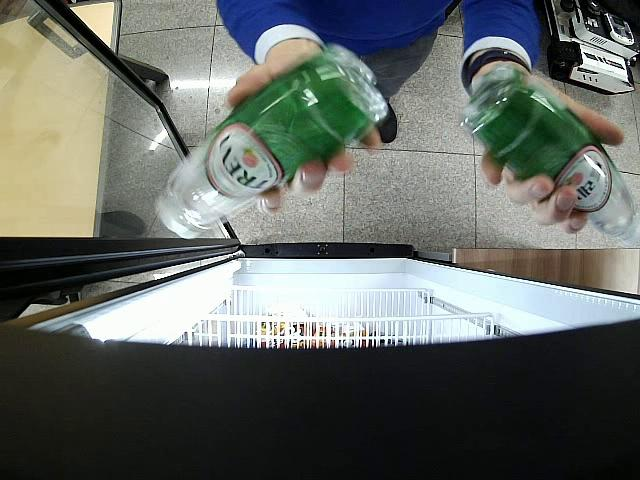00_hand: (227, 54, 381, 213), (476, 78, 624, 234)
18_trevi: (155, 45, 388, 239), (461, 66, 639, 246)
